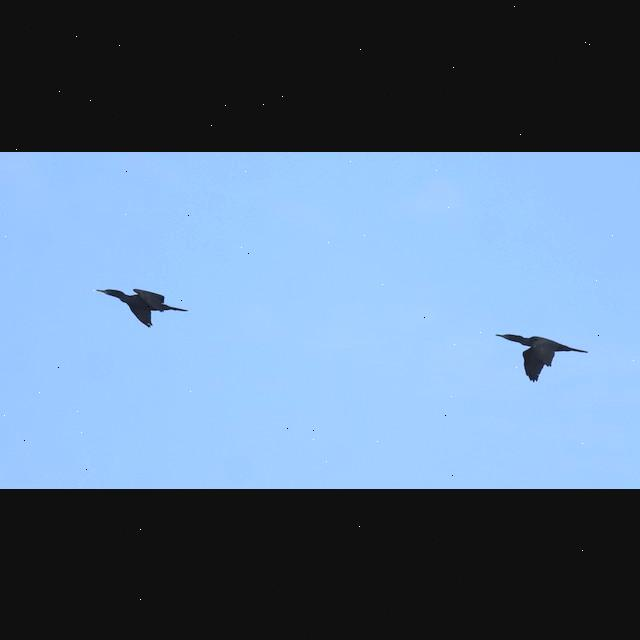cormorant: (494, 326, 590, 384), (93, 284, 185, 330)
